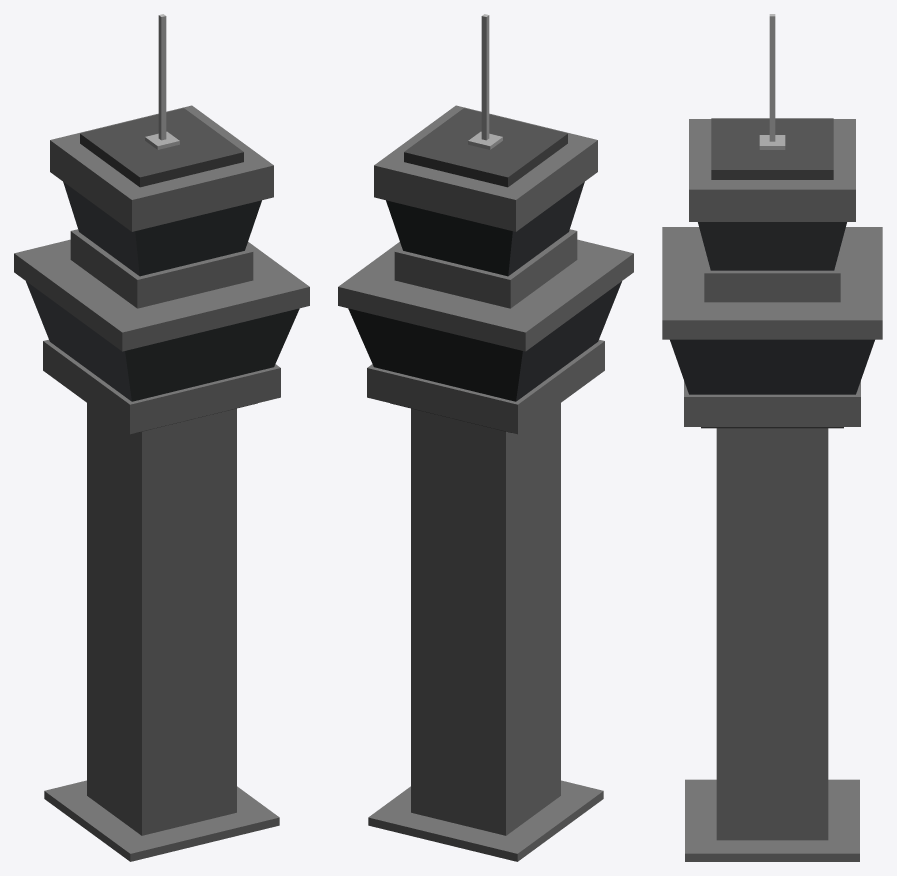
Rendered from Tower.fbx.
3 renders of one model, left to right at view 1: azimuth 30°, elevation 25°; view 2: azimuth 150°, elevation 25°; view 3: azimuth 270°, elevation 25°, orthographic.
Parts seen in each view (by area): view 1: Airport_Tower; view 2: Airport_Tower; view 3: Airport_Tower.
Part boxes in pixels (x1,y1,x2,y2): Airport_Tower: (14, 14, 309, 861); Airport_Tower: (338, 14, 633, 861); Airport_Tower: (662, 14, 882, 861).
Bounding box in the file's own units: 1645 × 6678 × 1645.
